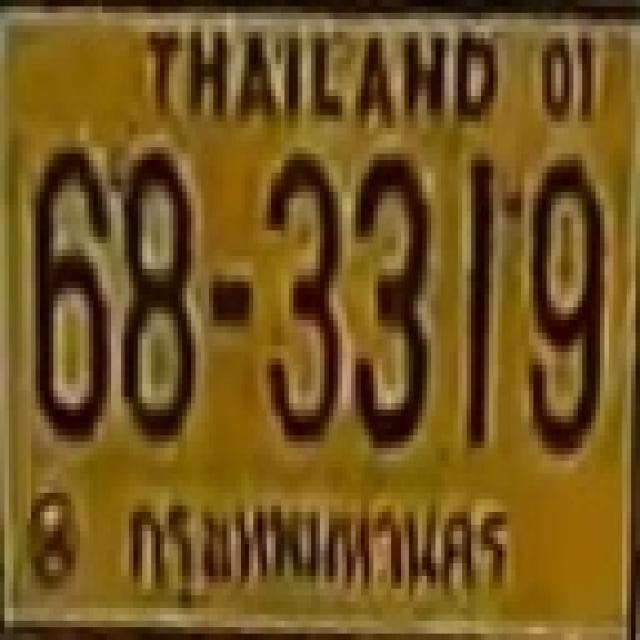1: (465, 157, 491, 445), (465, 154, 491, 435)
3: (351, 147, 427, 442), (262, 150, 338, 438)
6: (31, 141, 107, 435)
8: (120, 147, 191, 435)
9: (524, 154, 600, 448)
BKK: (123, 486, 526, 625)
